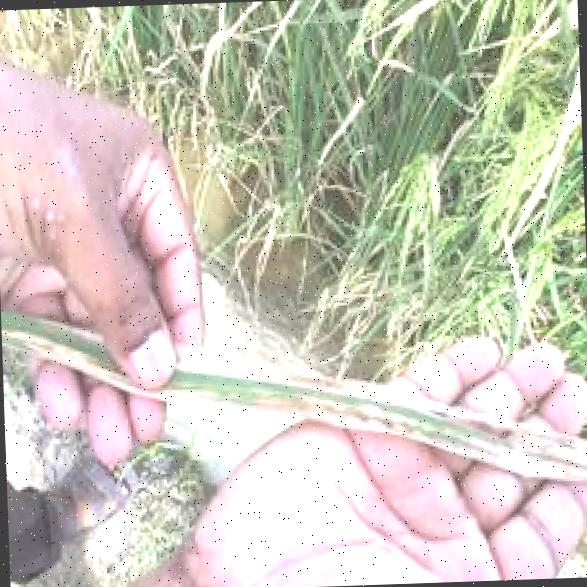Bacteria_Leaf_Blight: (34, 291, 587, 502)
